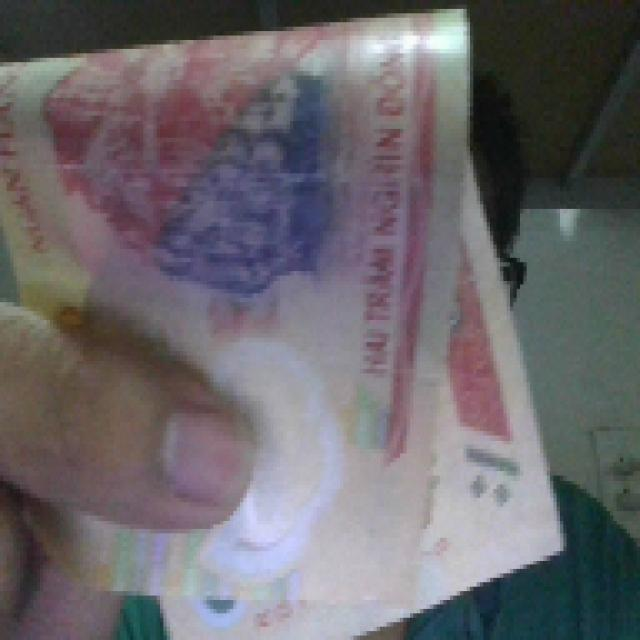200 000 VND: (0, 7, 567, 638)
